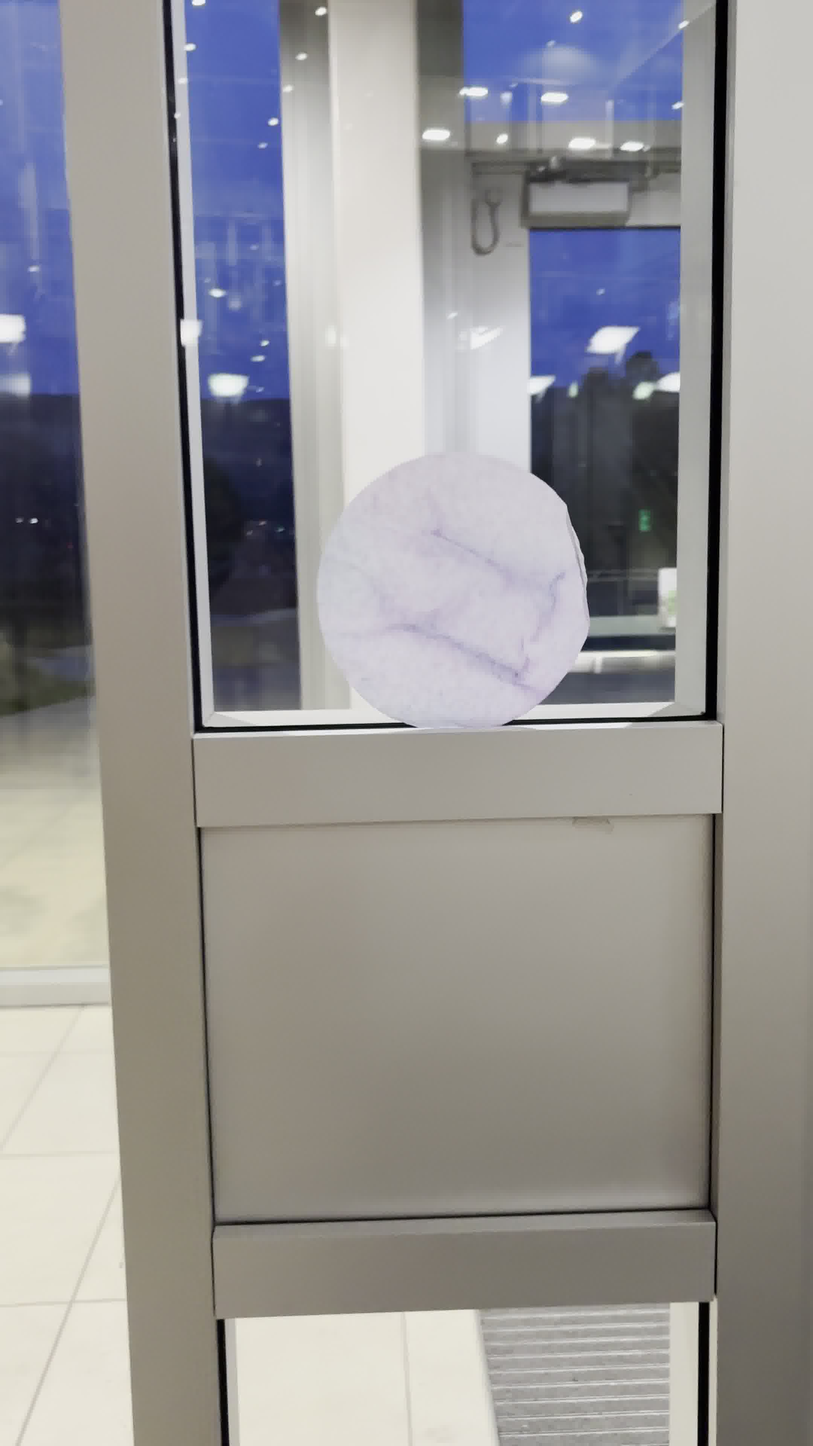Target: (315, 452, 589, 730)
